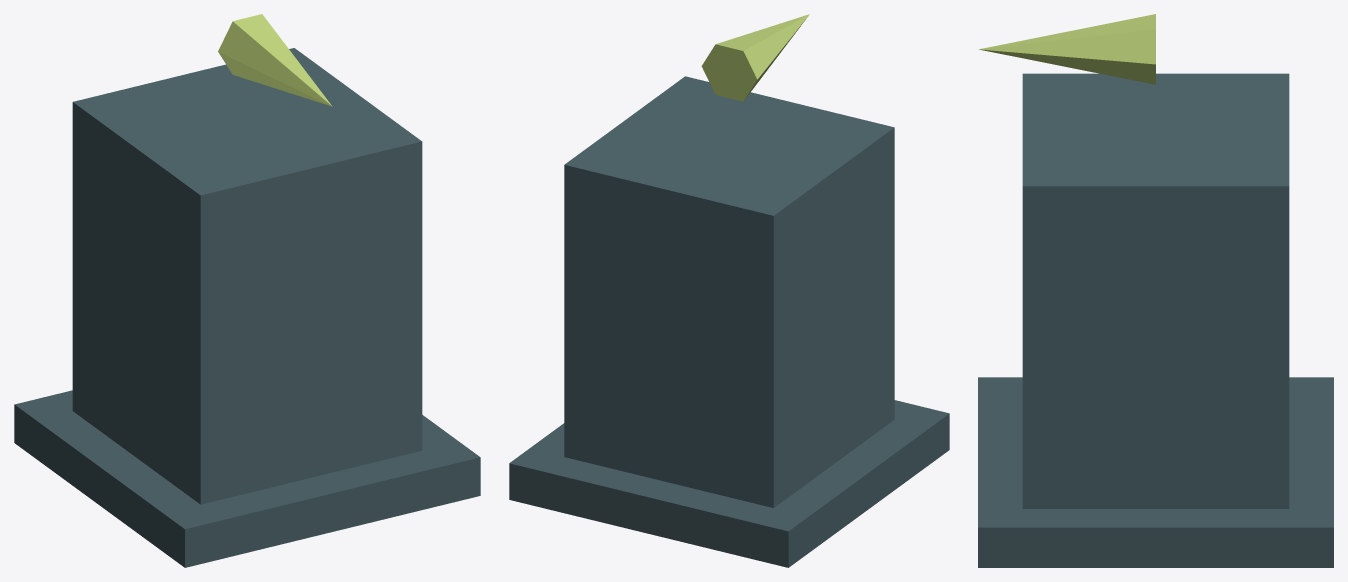
Rendered from tower.glb.
3 views of the same model, side by side, from view 1: azimuth 30°, elevation 25°; view 2: azimuth 150°, elevation 25°; view 3: azimuth 270°, elevation 25° (orthographic). The views are drawn at different scales.
Parts seen in each view (by area): view 1: part_1, part_0, part_2; view 2: part_1, part_0, part_2; view 3: part_1, part_0, part_2.
Boxes of the visible parts, x1,y1,x2,y2 form: part_1: [72, 48, 422, 504]; part_0: [14, 390, 480, 567]; part_2: [218, 14, 332, 106]; part_1: [564, 76, 894, 507]; part_0: [509, 400, 949, 567]; part_2: [701, 14, 809, 101]; part_1: [1022, 73, 1289, 508]; part_0: [978, 377, 1333, 567]; part_2: [978, 14, 1155, 84].
Bounding box in the file's own units: 8 × 11.69 × 8.
